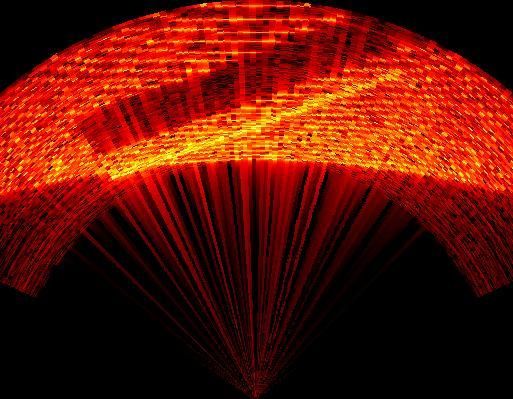pipe: (72, 16, 430, 158)
